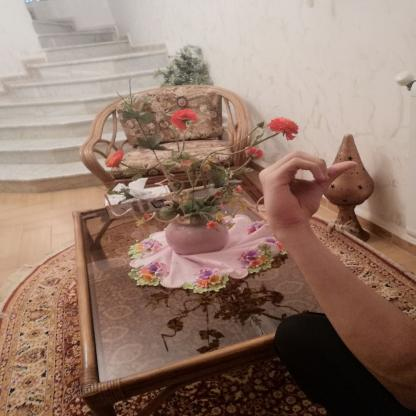WAW: (248, 144, 368, 237)
